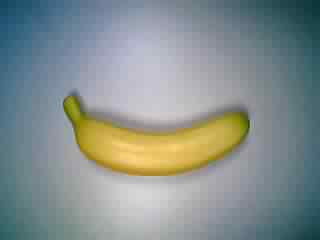banana: (61, 94, 255, 175)
